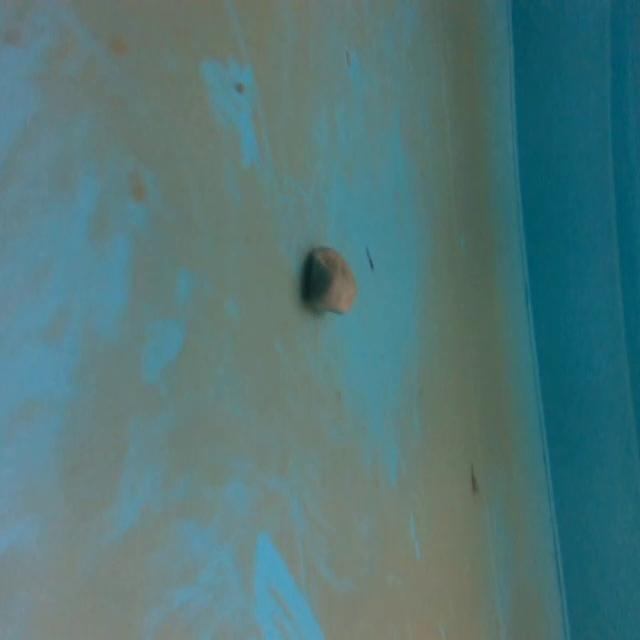rock: (298, 236, 362, 321)
